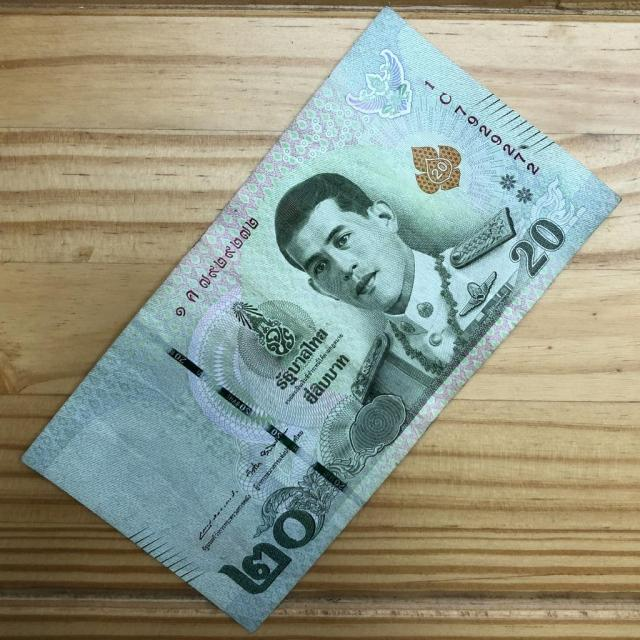THAI20: (22, 9, 619, 630)
